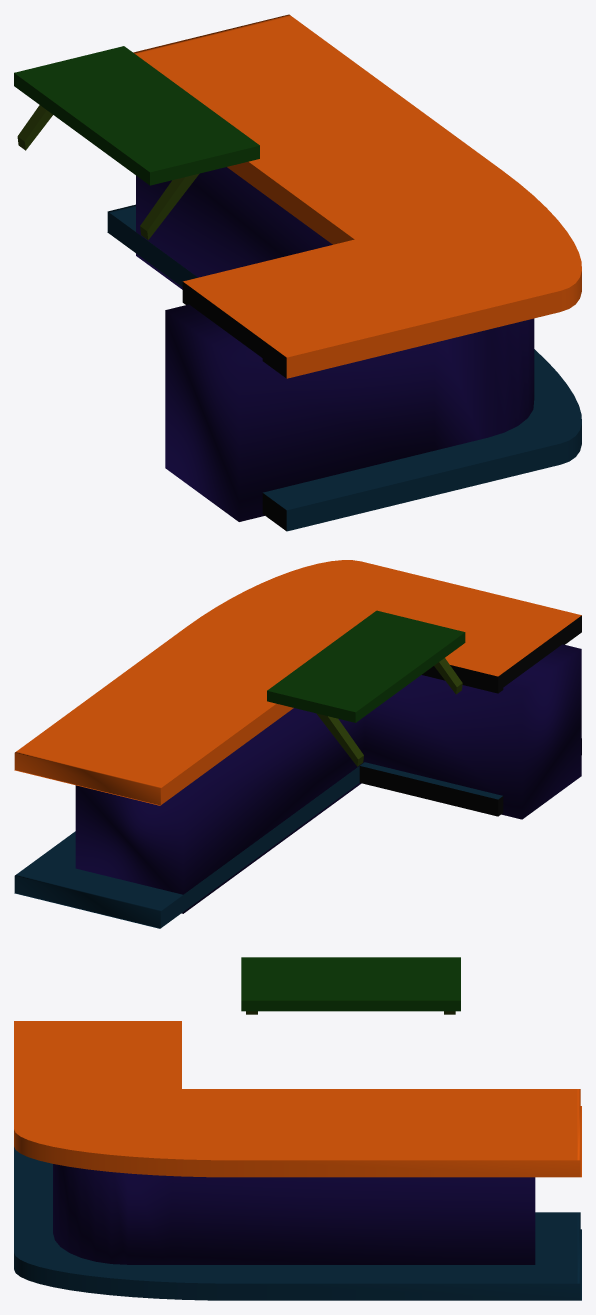
Rendered from SM_Diner_Base 1.fbx.
3 views of the same model, one above another, from view 1: azimuth 30°, elevation 25°; view 2: azimuth 150°, elevation 25°; view 3: azimuth 270°, elevation 25° (orthographic). The views are drawn at different scales.
Visible parts, largest first — view 1: SM_Diner_Base; view 2: SM_Diner_Base; view 3: SM_Diner_Base.
Part boxes in pixels (x1=…): SM_Diner_Base: x1=14, y1=14, x2=581, y2=531; SM_Diner_Base: x1=14, y1=560, x2=581, y2=928; SM_Diner_Base: x1=14, y1=957, x2=581, y2=1300.
Size of the model in its own units: 158 by 103 by 256.
